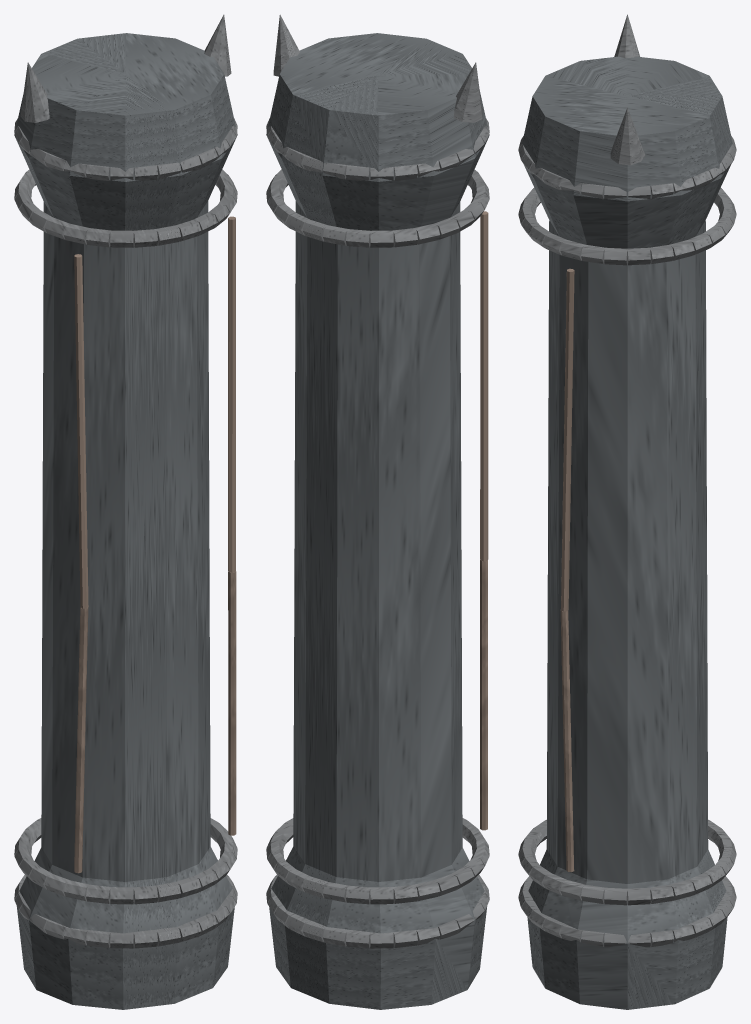
File: gothic_pillar.glb
3 renders of one model, left to right at view 1: azimuth 30°, elevation 25°; view 2: azimuth 150°, elevation 25°; view 3: azimuth 270°, elevation 25°, orthographic. The views are drawn at different scales.
Visible parts, largest first — view 1: stone, stone2, bronze; view 2: stone, stone2, bronze; view 3: stone, stone2, bronze.
Part boxes in pixels (<box>): stone: <box>14,33,237,1009</box>; stone2: <box>14,14,237,948</box>; bronze: <box>74,216,236,873</box>; stone: <box>266,33,489,1009</box>; stone2: <box>266,14,489,948</box>; bronze: <box>480,211,488,830</box>; stone: <box>522,56,732,1009</box>; stone2: <box>518,14,736,947</box>; bronze: <box>560,268,574,872</box>.
Size of the model in its own units: 1.95 by 8.43 by 1.84.
Materials: 3 (3 with a texture image).
